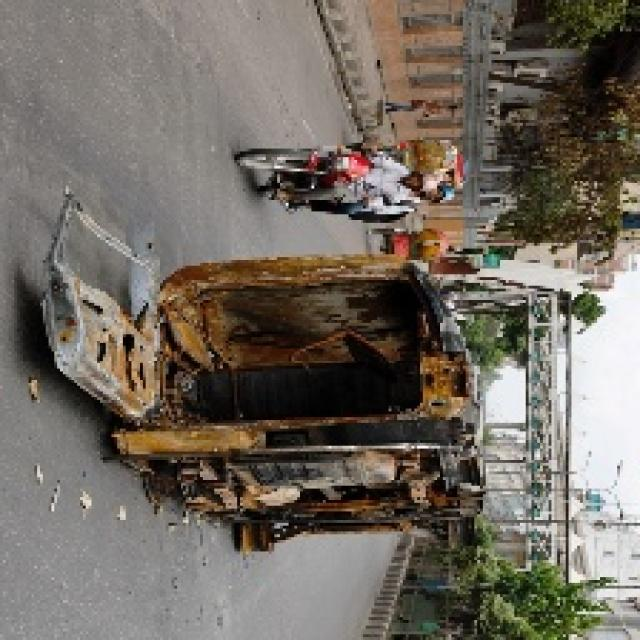bike: (225, 140, 379, 217)
rickshaw: (364, 226, 459, 263)
